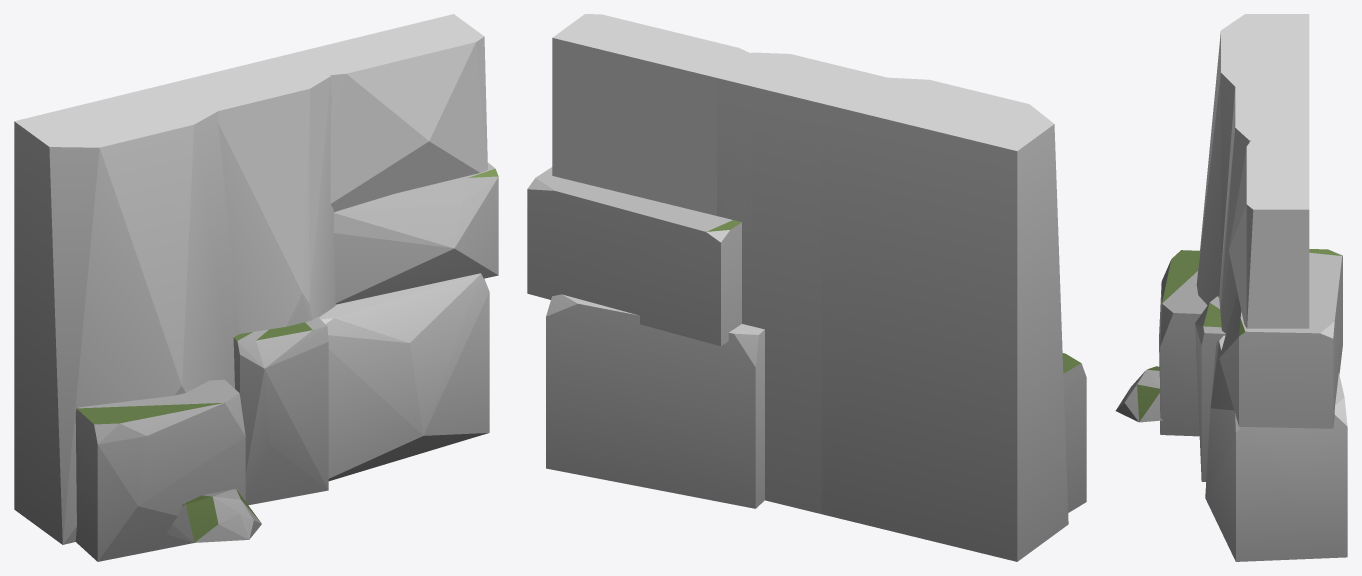
3 renders of one model, left to right at view 1: azimuth 30°, elevation 25°; view 2: azimuth 150°, elevation 25°; view 3: azimuth 270°, elevation 25°, orthographic. The views are drawn at different scales.
Parts seen in each view (by area): view 1: rk_cf3_3; view 2: rk_cf3_3; view 3: rk_cf3_3.
Boxes of the visible parts, x1,y1,x2,y2 form: rk_cf3_3: (14,14,498,561); rk_cf3_3: (527,14,1086,561); rk_cf3_3: (1115,14,1347,561).
Size of the model in its own units: 34.59 by 28.5 by 16.92.
